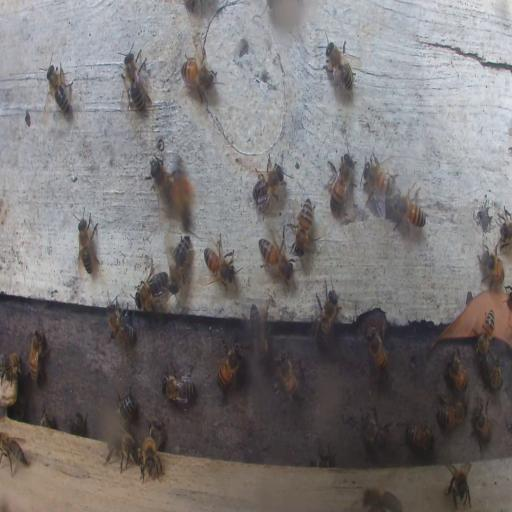nonpollenbee: (362, 150, 399, 212), (180, 48, 217, 103), (251, 157, 287, 213), (325, 148, 355, 214), (323, 40, 356, 96), (203, 235, 236, 291), (122, 50, 149, 115), (313, 284, 340, 348), (44, 62, 74, 119), (259, 234, 293, 281), (358, 408, 391, 456), (76, 207, 98, 276), (273, 348, 301, 402), (216, 337, 244, 391), (149, 153, 176, 205), (106, 300, 137, 344), (392, 188, 426, 228), (167, 234, 192, 288), (136, 266, 168, 308), (105, 432, 139, 470), (161, 367, 195, 405), (470, 394, 492, 450), (446, 461, 473, 506), (0, 433, 27, 477), (249, 300, 268, 360), (478, 246, 505, 288), (366, 324, 388, 373), (294, 196, 312, 255), (362, 487, 403, 511), (1, 351, 21, 400), (28, 329, 46, 382), (436, 399, 466, 430), (476, 310, 494, 360), (404, 423, 434, 453), (446, 352, 468, 392), (142, 437, 161, 477), (116, 390, 135, 425), (487, 352, 502, 391), (499, 209, 512, 253), (316, 444, 334, 467), (148, 420, 163, 446), (68, 412, 85, 433), (39, 408, 53, 427)
pollenbee: (170, 157, 198, 232)
